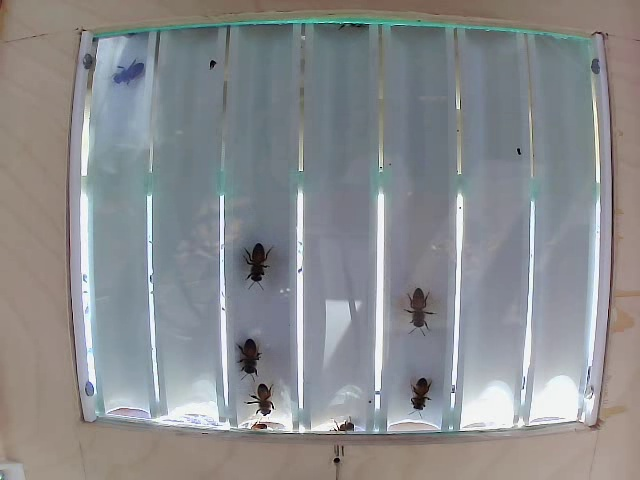bee: (398, 274, 441, 343), (220, 321, 280, 370), (250, 232, 285, 303), (407, 370, 447, 417)
